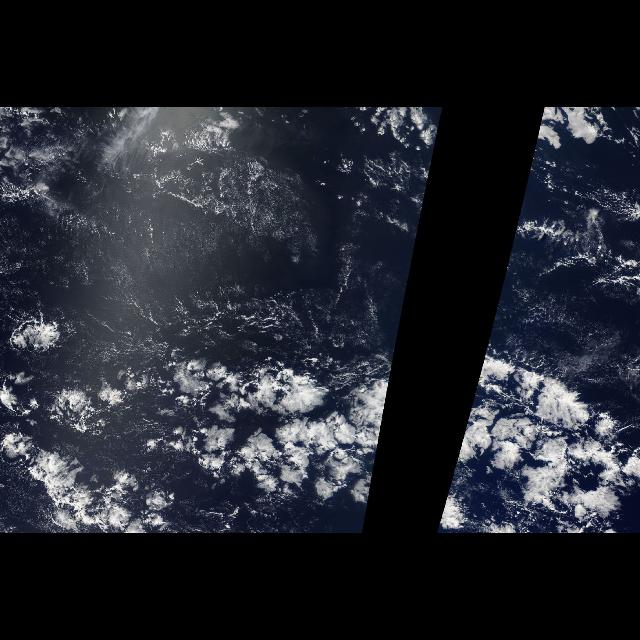Flower: (153, 345, 391, 509), (441, 351, 639, 533)
Sugar: (13, 123, 350, 331)
